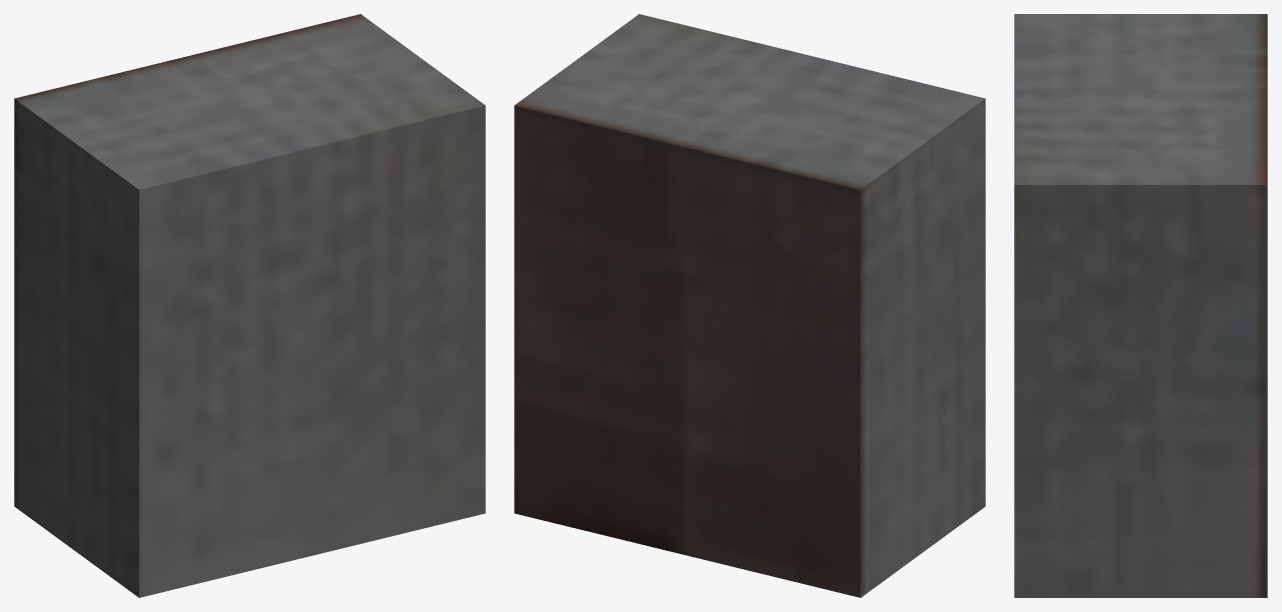
File: handle__handle_right_shoulder.glb
3 views of the same model, side by side, from view 1: azimuth 30°, elevation 25°; view 2: azimuth 150°, elevation 25°; view 3: azimuth 270°, elevation 25° (orthographic).
Visible parts, largest first — view 1: geometry_0; view 2: geometry_0; view 3: geometry_0.
Boxes of the visible parts, box(x1,y1,x2,y2) form: geometry_0: box(14, 14, 485, 597); geometry_0: box(514, 14, 985, 597); geometry_0: box(1014, 14, 1267, 597).
Bounding box in the file's own units: 0.016 × 0.018 × 0.01.
1 material, 1 textured.
